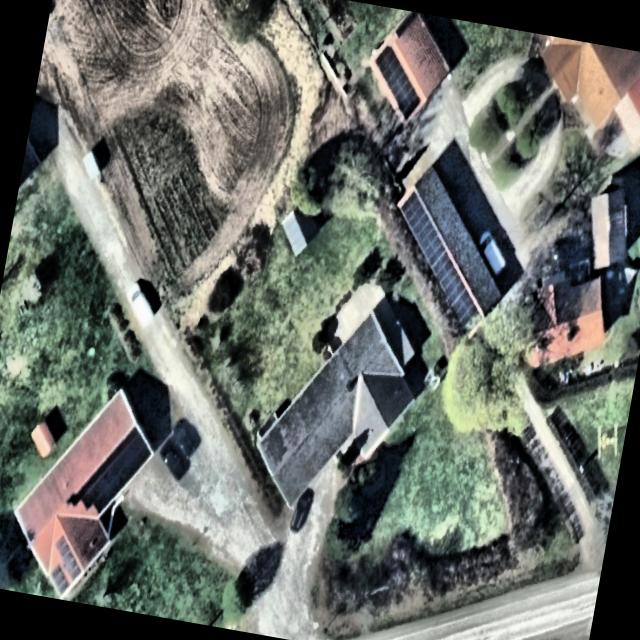roof_pv: (84, 417, 156, 494), (410, 211, 449, 288), (44, 532, 87, 594), (365, 39, 403, 100), (391, 66, 428, 124), (392, 185, 426, 248), (66, 482, 125, 518), (434, 248, 464, 312), (452, 282, 486, 334)
